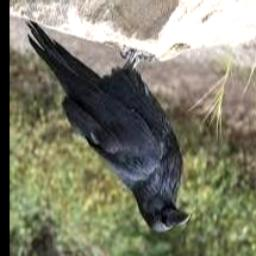Crow: (26, 19, 191, 233)
